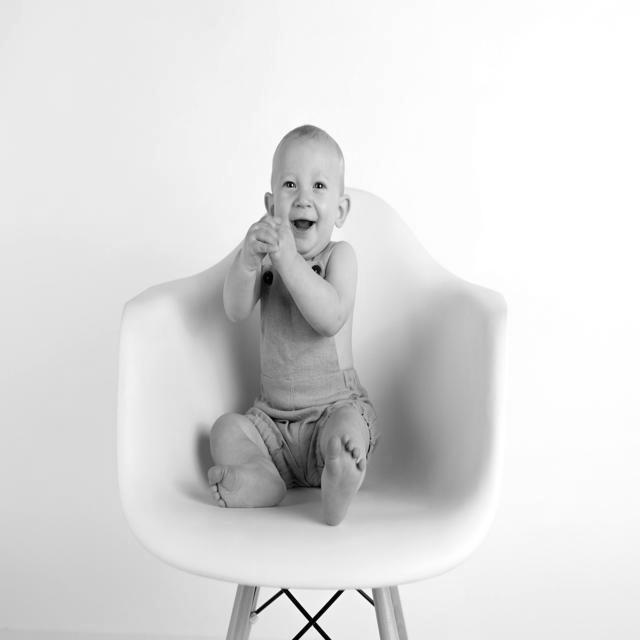Happiness: (262, 123, 352, 262)
